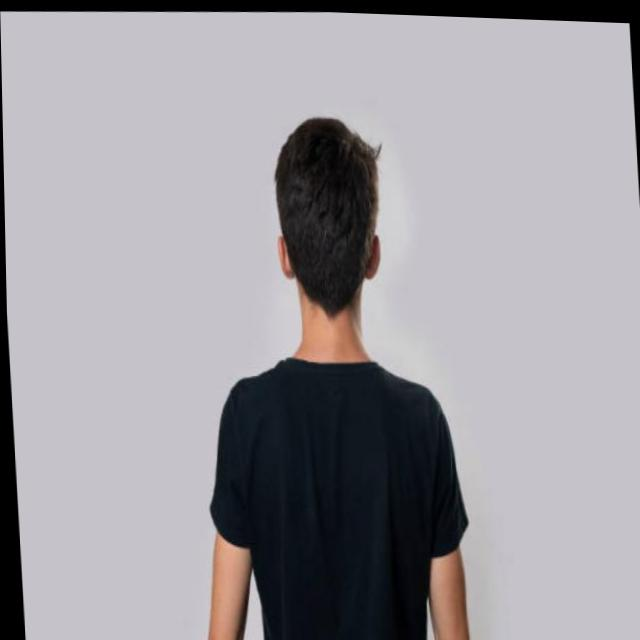no helmet: (262, 104, 392, 315)
